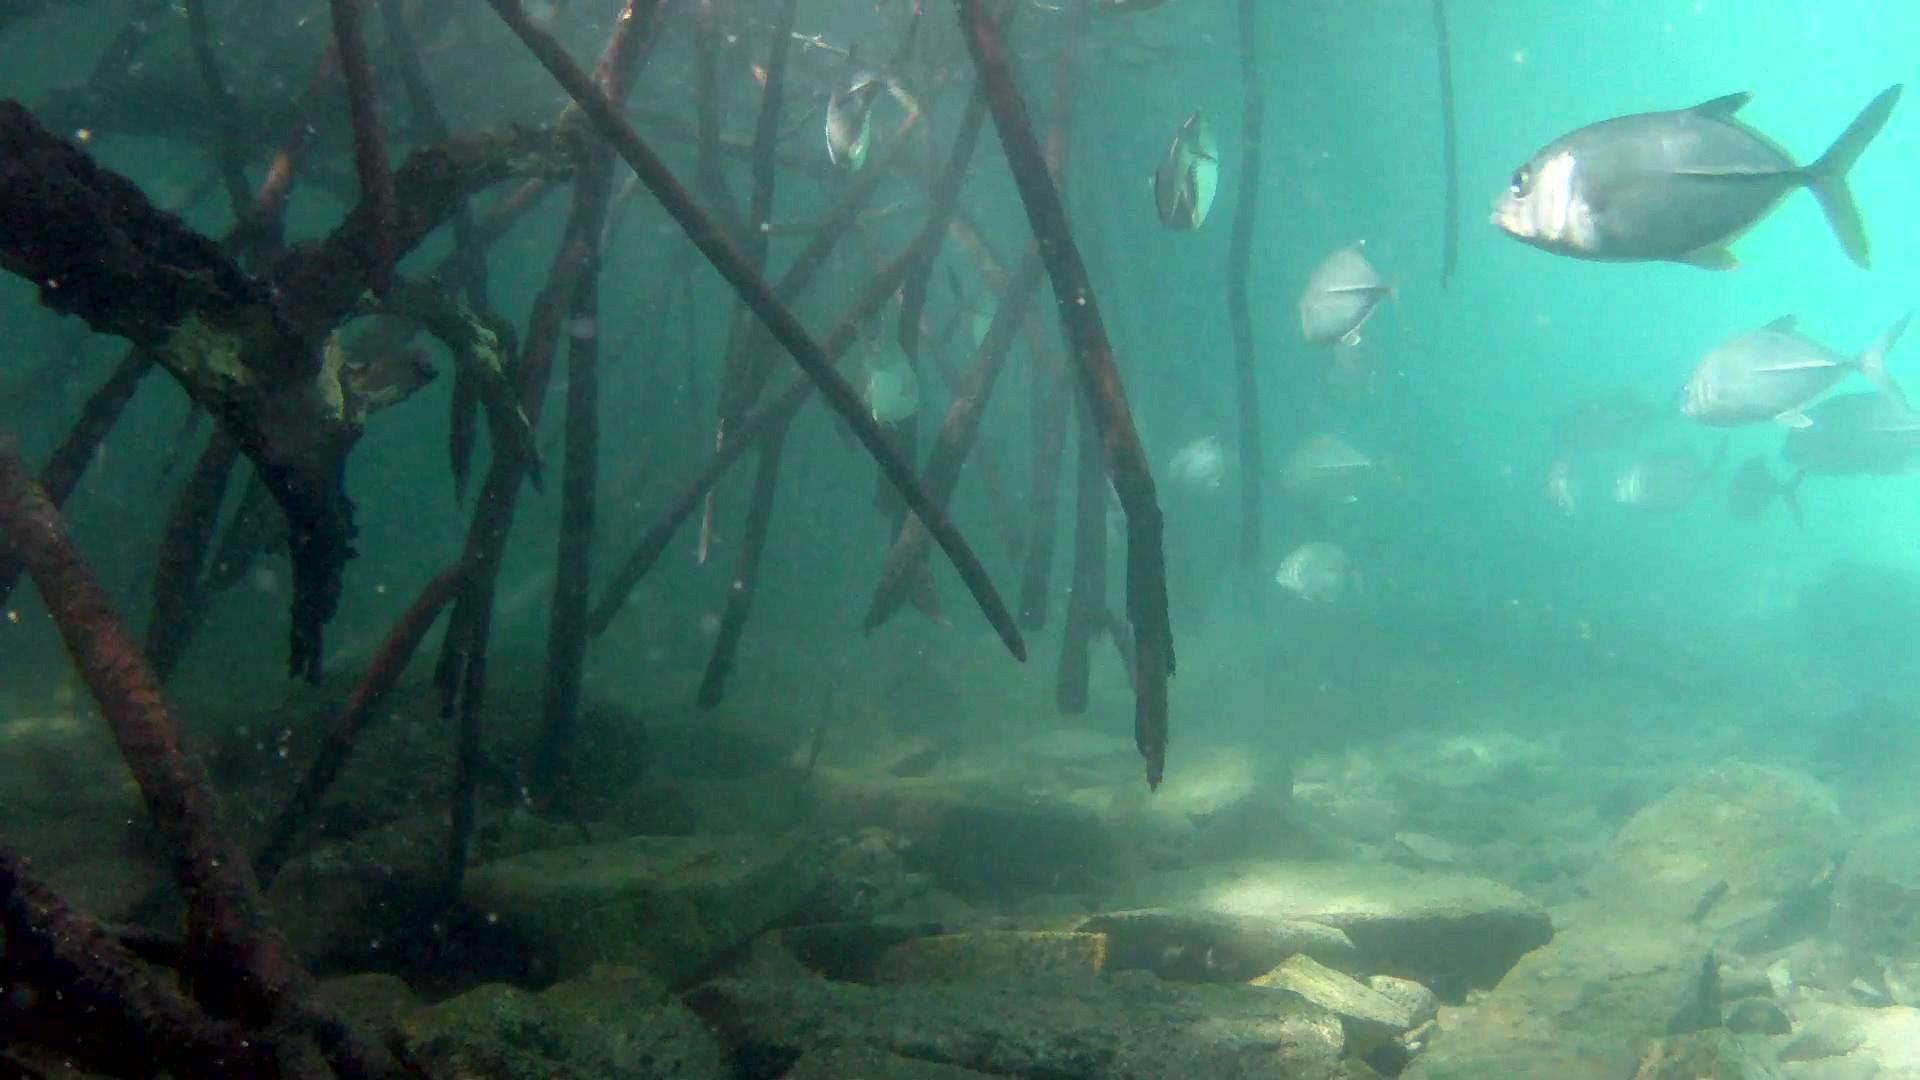caranx: (1485, 73, 1908, 291), (810, 13, 964, 182)
